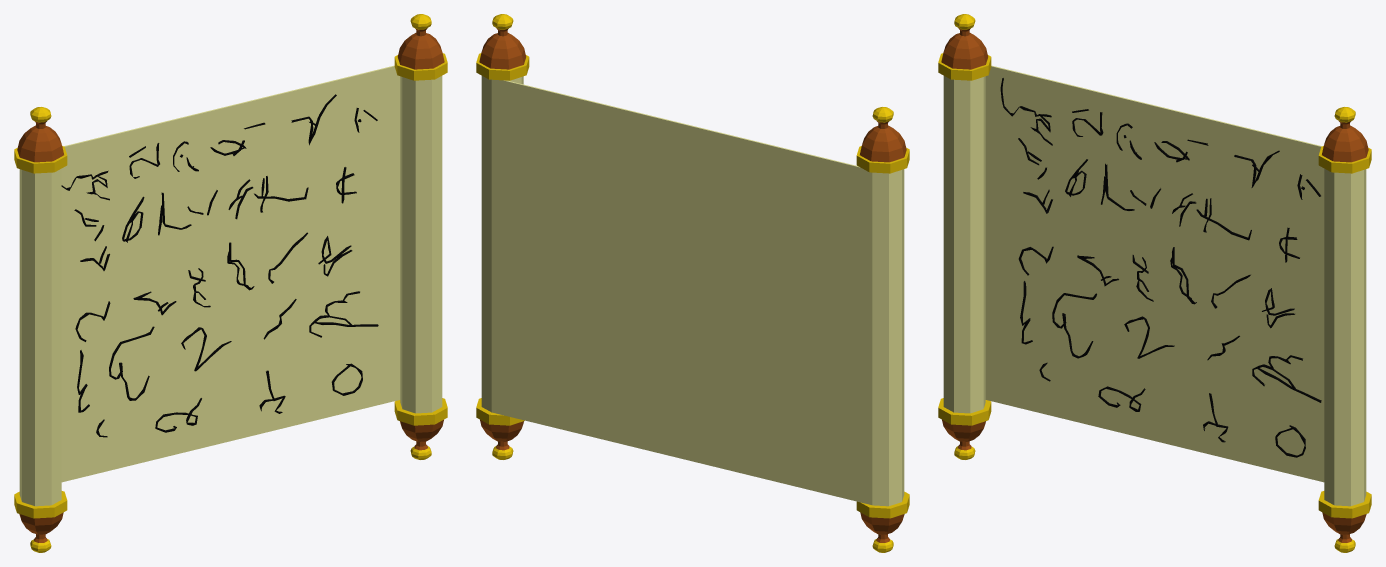
The model's file is Parchment.fbx.
The picture shows the model from 3 angles, left to right: view 1: azimuth 30°, elevation 25°; view 2: azimuth 150°, elevation 25°; view 3: azimuth 330°, elevation 25°; orthographic projection.
Visible parts, largest first — view 1: Parchment; view 2: Parchment; view 3: Parchment.
Boxes of the visible parts, x1=… form: Parchment: x1=14, y1=14, x2=447, y2=552; Parchment: x1=476, y1=14, x2=909, y2=552; Parchment: x1=938, y1=14, x2=1371, y2=552.
Size of the model in its own units: 8571 by 8505 by 955.
